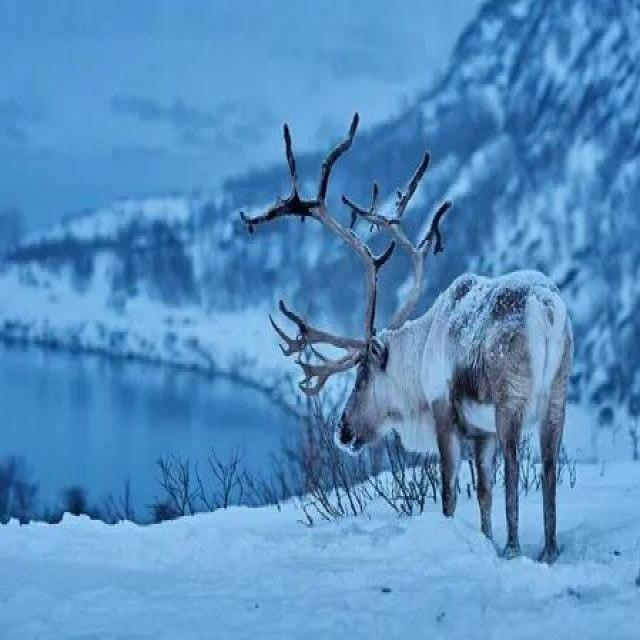deer: (245, 136, 640, 619)
